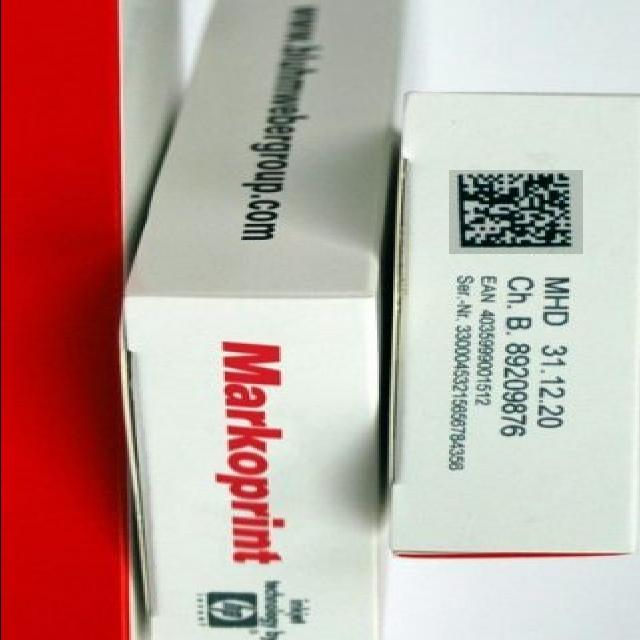Data-Matrix: (448, 171, 582, 255)
